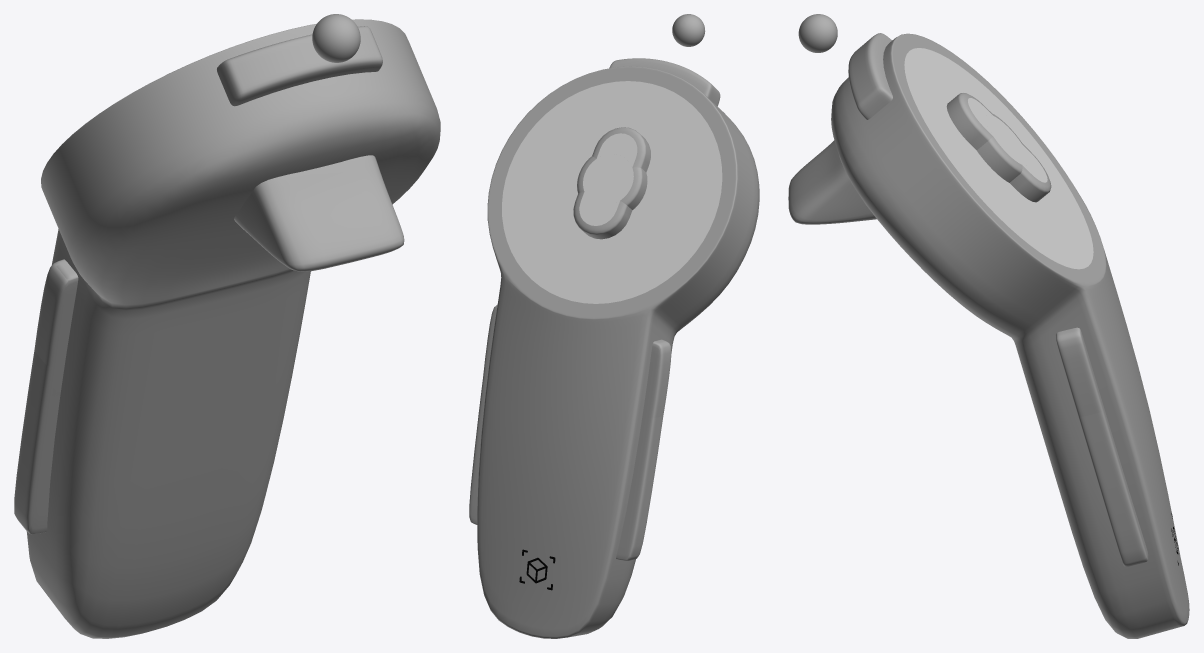
Rendered from Flipside_MasterController.fbx.
3 renders of one model, left to right at view 1: azimuth 30°, elevation 25°; view 2: azimuth 150°, elevation 25°; view 3: azimuth 270°, elevation 25°, orthographic. The views are drawn at different scales.
Visible parts, largest first — view 1: Controller_Base, Trigger_Type1, Trigger_Type2, SideBumperButton_L_Large, SideBumperButton_L_Small, Pointer; view 2: Controller_Base, ControllerCircle_TouchOrKnuckles, Button_Knuckles, SideBumperButton_L_Large, Button_Size1_Large, SideBumperButton_L_Small, Trigger_Type2, SideBumperButton_R_Large, Pointer; view 3: Controller_Base, ControllerCircle_TouchOrKnuckles, SideBumperButton_R_Large, Trigger_Type1, Button_Knuckles, Trigger_Type2, SideBumperButton_R_Small, Button_Size1_Large, Pointer.
Boxes of the visible parts, left/top/right/bottom form: Controller_Base: left=26, top=19, right=440, bottom=638; Trigger_Type1: left=234, top=155, right=404, bottom=271; Trigger_Type2: left=217, top=26, right=382, bottom=106; SideBumperButton_L_Large: left=14, top=259, right=78, bottom=534; SideBumperButton_L_Small: left=34, top=259, right=78, bottom=396; Pointer: left=312, top=14, right=360, bottom=62; Controller_Base: left=477, top=66, right=759, bottom=638; ControllerCircle_TouchOrKnuckles: left=502, top=81, right=722, bottom=303; Button_Knuckles: left=573, top=127, right=650, bottom=239; SideBumperButton_L_Large: left=616, top=339, right=668, bottom=560; Button_Size1_Large: left=577, top=154, right=647, bottom=209; SideBumperButton_L_Small: left=638, top=340, right=671, bottom=443; Trigger_Type2: left=609, top=58, right=720, bottom=106; SideBumperButton_R_Large: left=469, top=324, right=494, bottom=524; Pointer: left=672, top=14, right=705, bottom=46; Controller_Base: left=831, top=33, right=1189, bottom=638; ControllerCircle_TouchOrKnuckles: left=904, top=48, right=1093, bottom=269; SideBumperButton_R_Large: left=1056, top=328, right=1148, bottom=566; Trigger_Type1: left=788, top=140, right=876, bottom=224; Button_Knuckles: left=946, top=93, right=1051, bottom=202; Trigger_Type2: left=848, top=33, right=892, bottom=119; SideBumperButton_R_Small: left=1056, top=327, right=1111, bottom=435; Button_Size1_Large: left=977, top=113, right=1029, bottom=182; Pointer: left=798, top=14, right=837, bottom=52.
Size of the model in its own units: 15.99 by 33.88 by 20.17.
